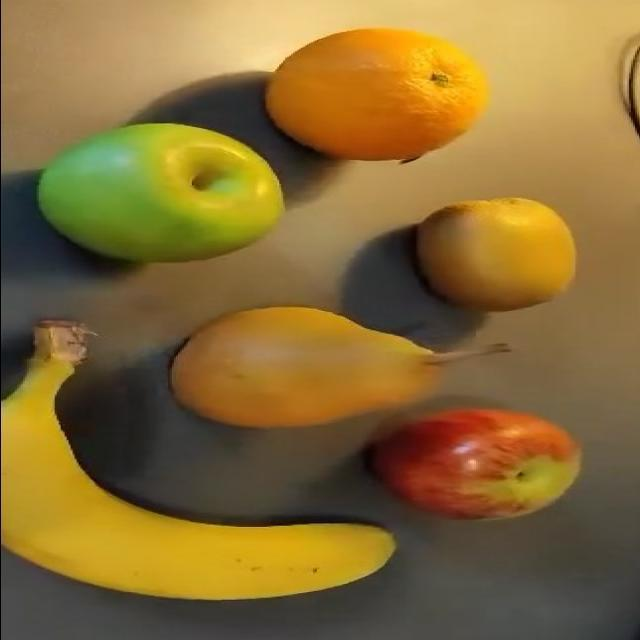Apple: (36, 121, 285, 263), (364, 406, 582, 520)
Banana: (0, 317, 396, 601)
Orange: (264, 25, 489, 162)
